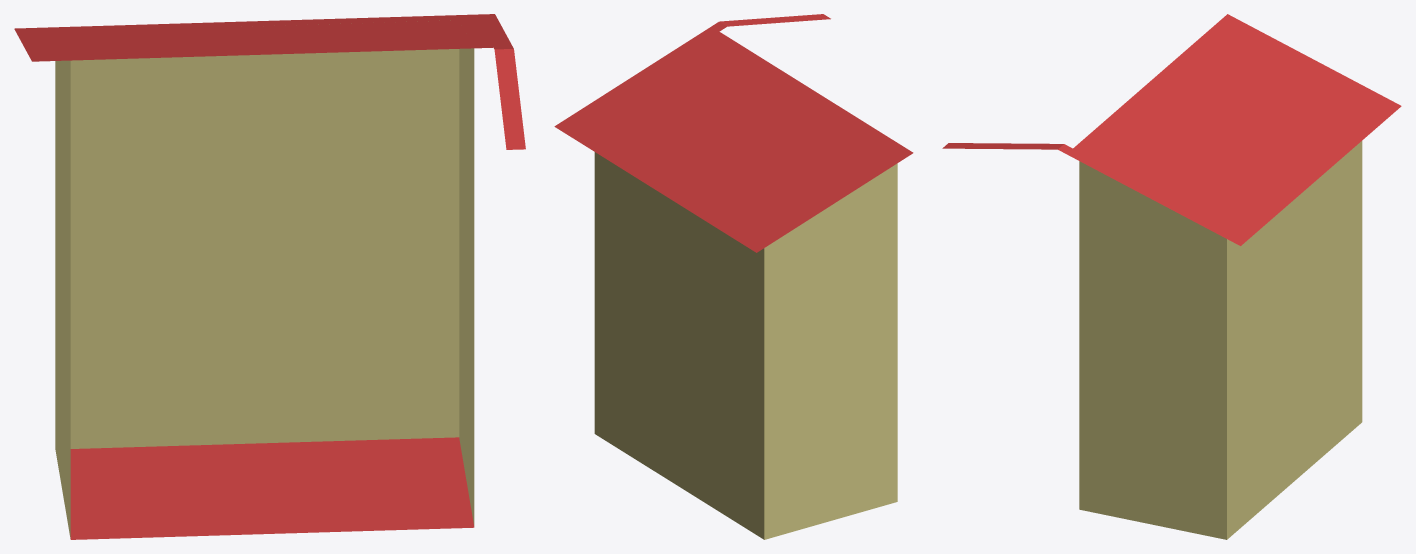
The picture shows the model from 3 angles, left to right: view 1: azimuth 30°, elevation 25°; view 2: azimuth 150°, elevation 25°; view 3: azimuth 270°, elevation 25°; orthographic projection. The views are drawn at different scales.
Bounding box in the file's own units: 10.54 × 11.64 × 10.32.
